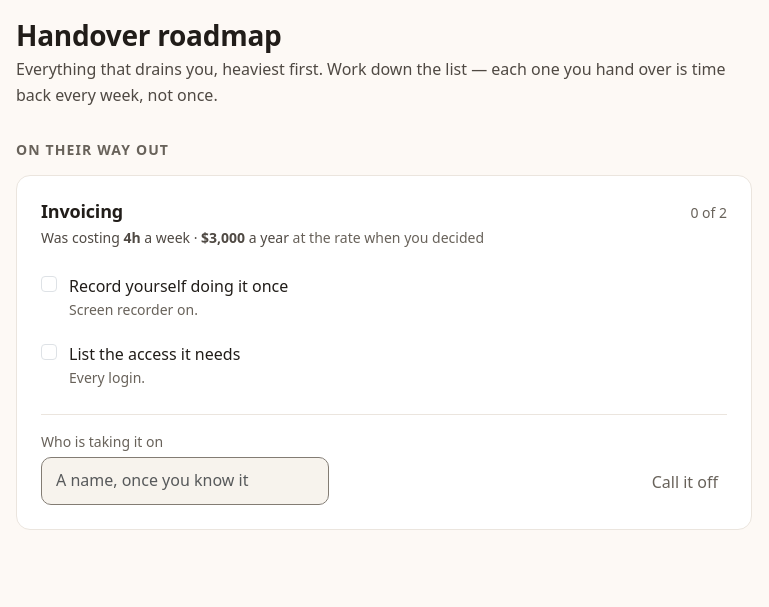
Test: working through a handover › puts the box back when the save fails
The image size is (769, 607).
expect the heading "Handover roadmap" is shown: met, box [16,16,282,54]
Step 1. Click the checkbox labelled "Record yourself doing it once Screen recorder on." → {"x": 49, "y": 284}, box [41,276,57,292]
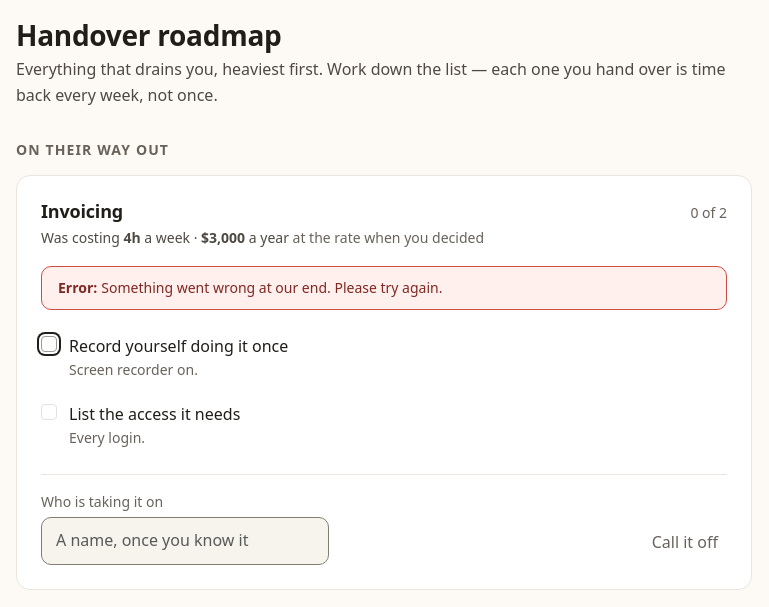
expect the checkbox labelled "Record yourself doing it once Screen recorder on." is not checked: met, box [41,336,57,352]
expect the message "Error:Something went wrong at our end. Please try again." is shown: met, box [41,266,727,310]
